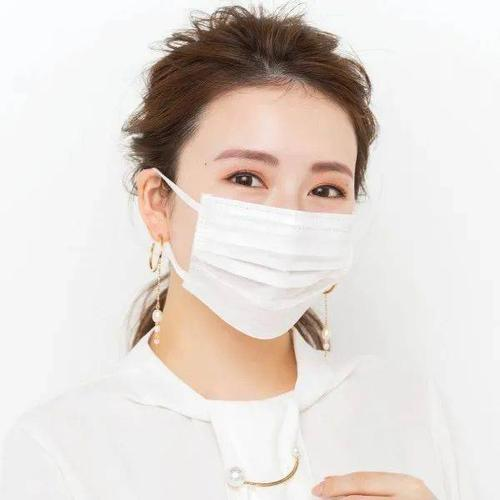mask: (175, 77, 365, 339)
